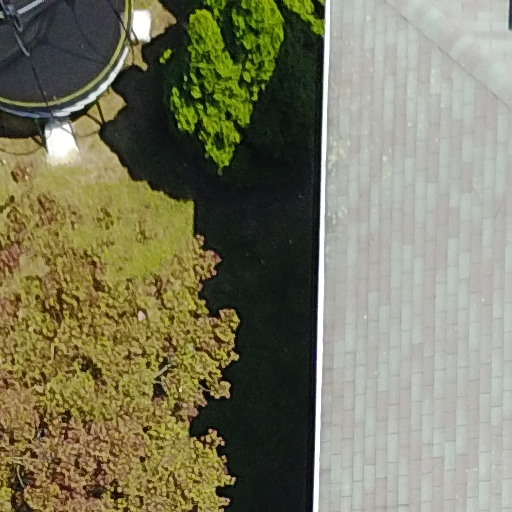toy: (3, 1, 153, 182)
